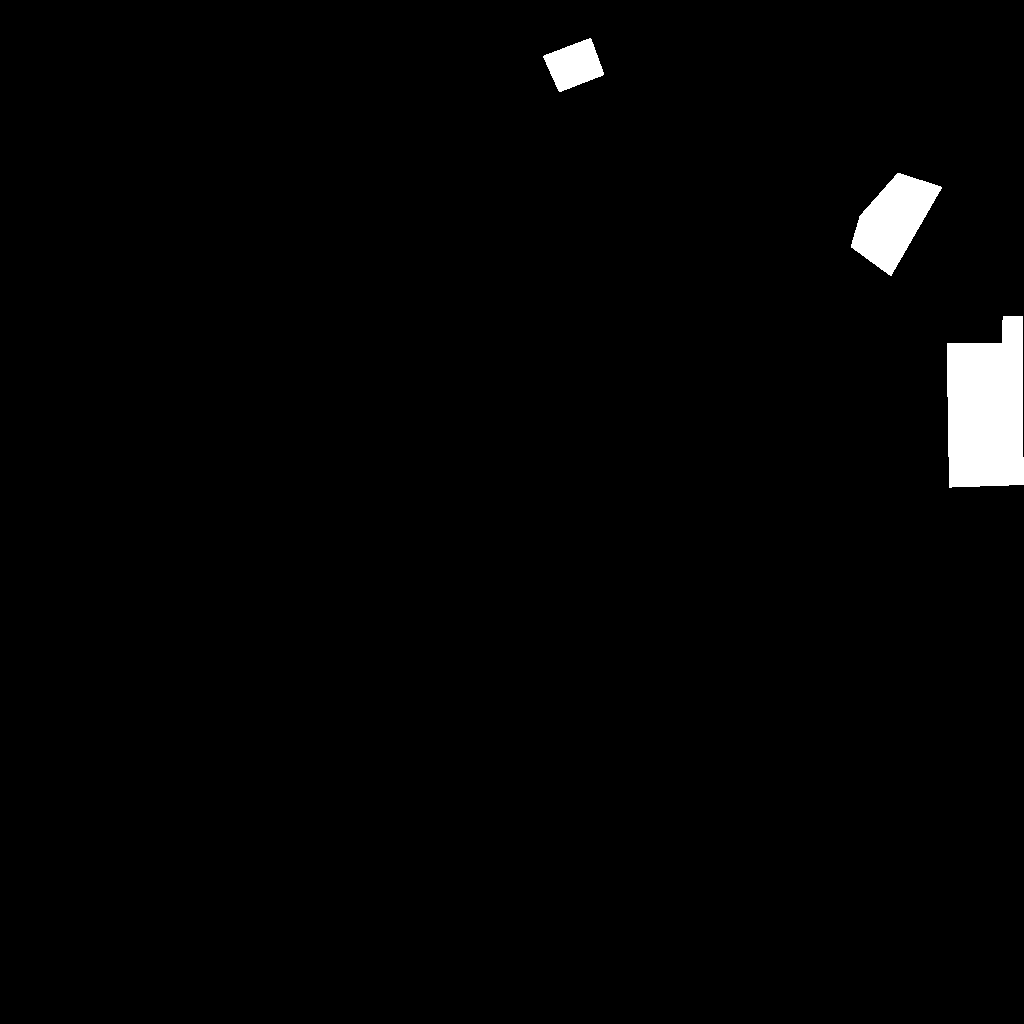building: (947, 316, 1024, 488), (851, 173, 943, 277), (543, 38, 605, 93)
